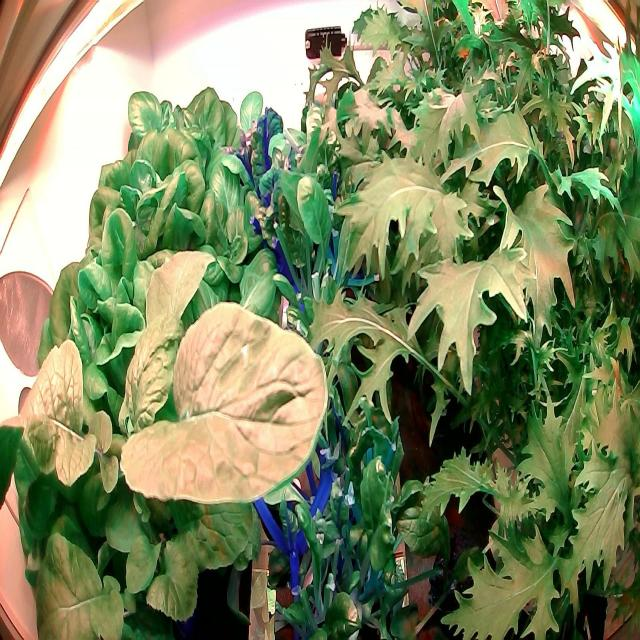Ready: (0, 328, 149, 639), (36, 162, 162, 464), (88, 87, 239, 299)
young: (185, 168, 286, 324), (226, 91, 284, 176)
